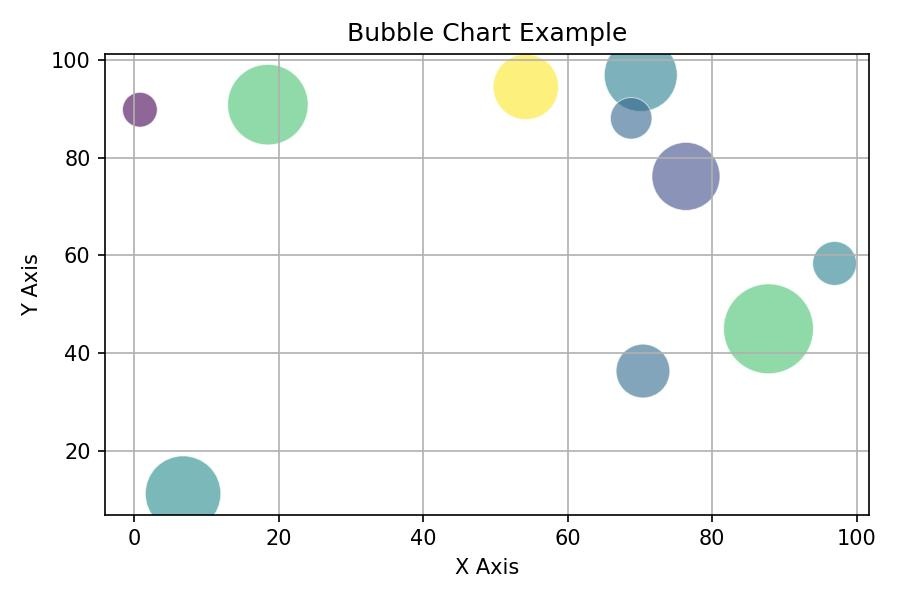axis: (86, 503, 884, 554), (59, 40, 113, 543)
circle: (724, 284, 814, 374), (224, 65, 308, 141), (649, 141, 723, 210), (144, 454, 221, 515), (602, 52, 681, 105), (496, 55, 559, 117), (616, 343, 669, 397), (810, 241, 860, 284), (608, 98, 654, 140), (125, 93, 159, 127)
